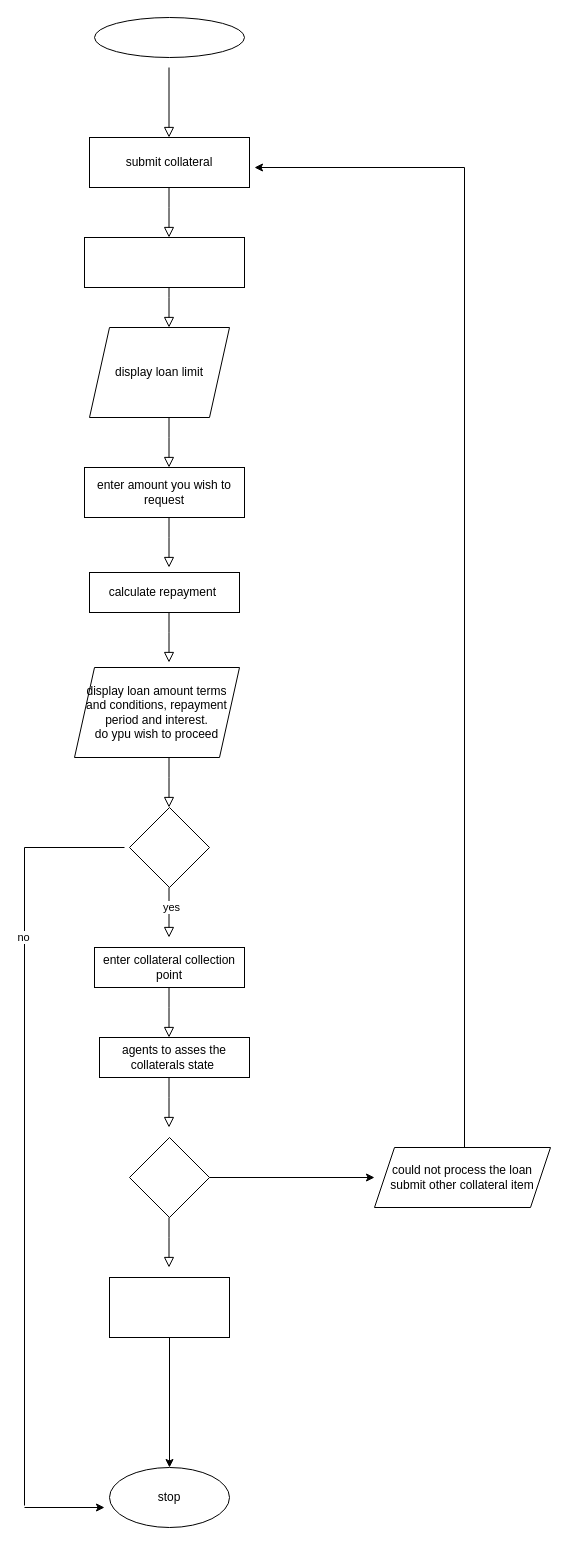
This 568x1545 diagram has some shape labels left out. Here are the shapes that lost their labels. From the top down, the centre of each, then its label:
At pixel 169 37: "start".
At pixel 164 262: "calculate loan limit".
At pixel 169 1177: "state of collateral".
At pixel 169 1307: "make payments to account".
